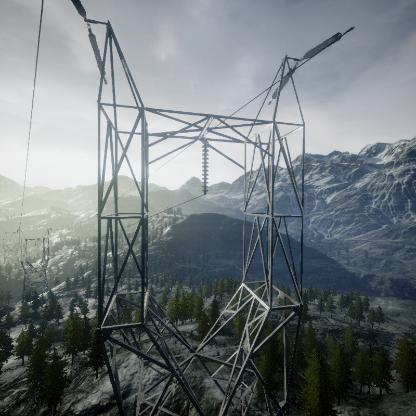insulator: (298, 27, 351, 63), (83, 23, 106, 85), (270, 73, 292, 104), (200, 138, 210, 195)
tower: (16, 224, 56, 311)
